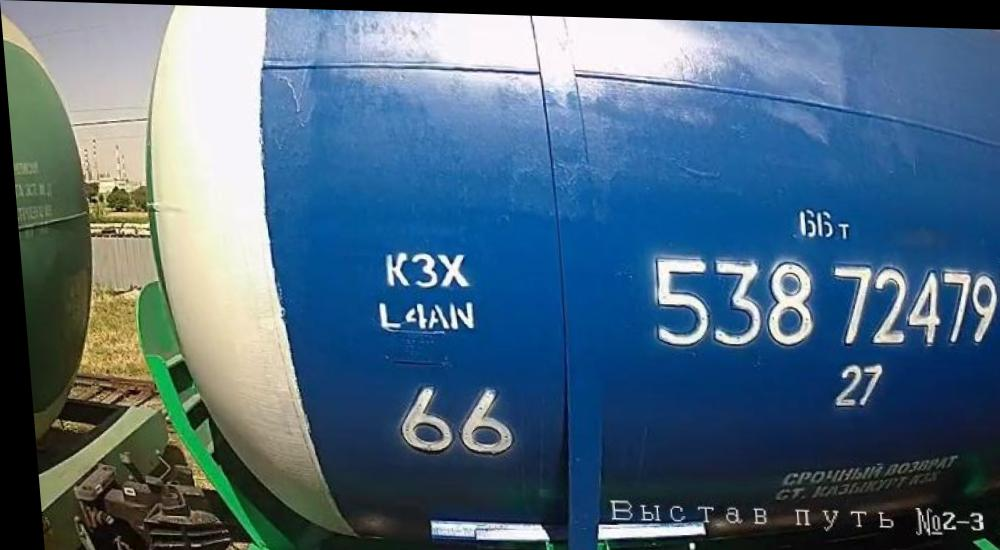Wagon-number: (640, 247, 1000, 356)
